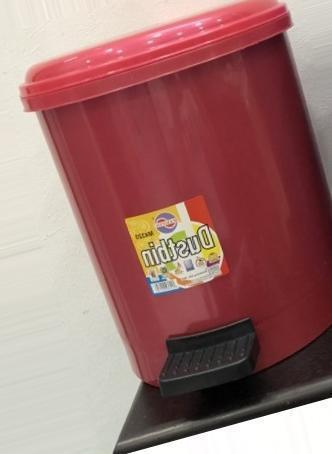Bote de Basura: (16, 0, 331, 396)
